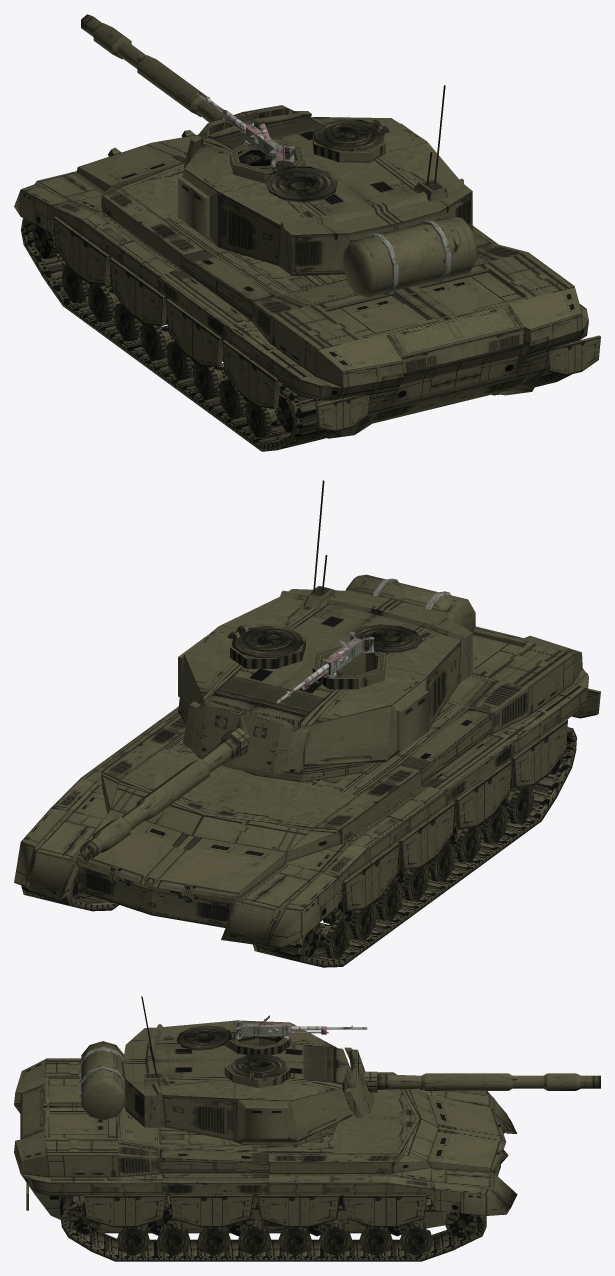
File: Model_Misc_Tank2.fbx
The picture shows the model from 3 angles, top to bottom: view 1: azimuth 30°, elevation 25°; view 2: azimuth 150°, elevation 25°; view 3: azimuth 270°, elevation 25°; orthographic projection. The views are drawn at different scales.
Visible parts, largest first — view 1: Base, Turret; view 2: Base, Turret; view 3: Base, Turret.
Boxes of the visible parts, left/top/right/bottom form: Base: left=14, top=130, right=600, bottom=451; Turret: left=81, top=14, right=477, bottom=297; Base: left=14, top=626, right=600, bottom=967; Turret: left=80, top=480, right=475, bottom=861; Base: left=14, top=1058, right=517, bottom=1261; Turret: left=79, top=996, right=600, bottom=1141.
Bounding box in the file's own units: 435 × 433 × 981.
